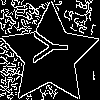Y: (24, 30, 68, 64)
